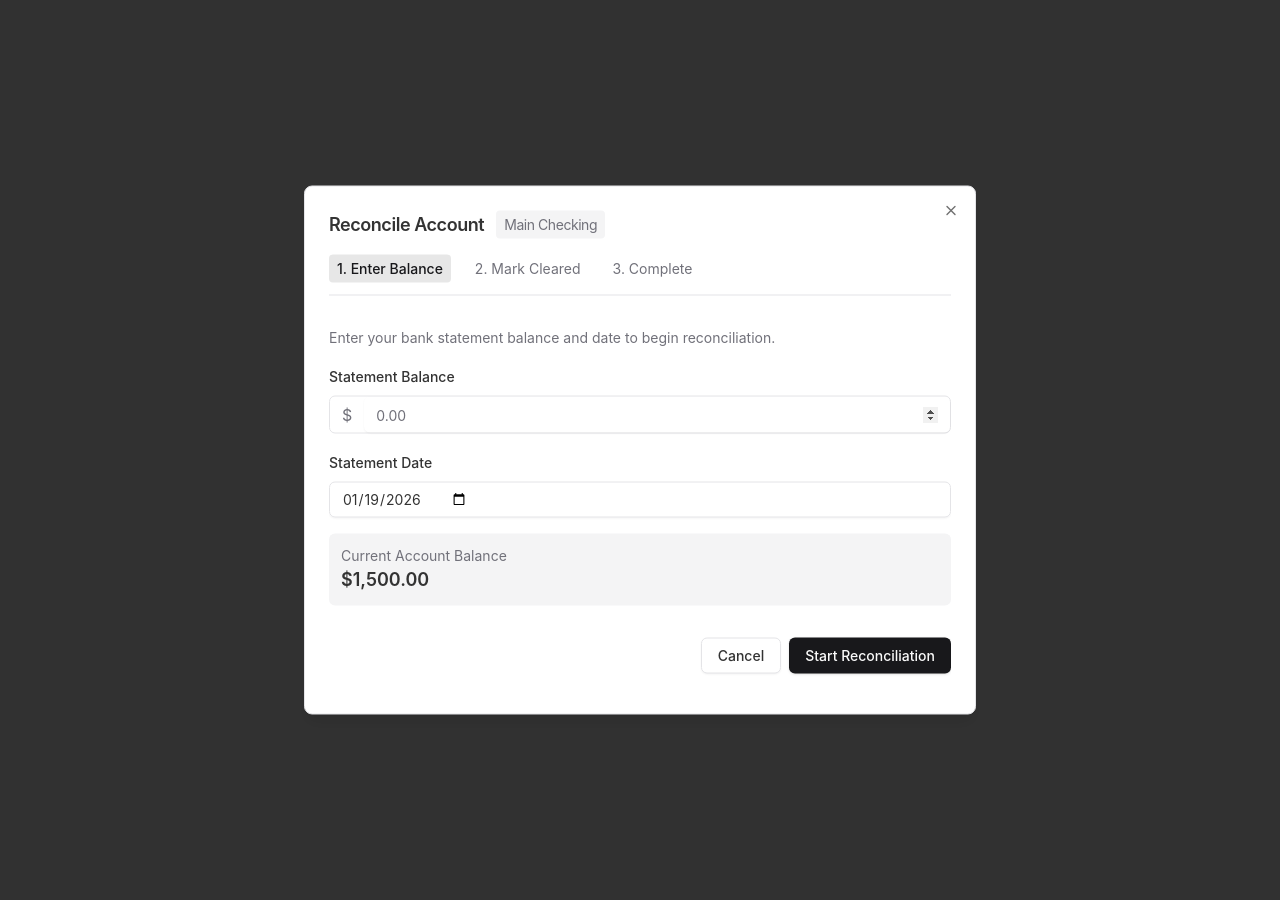
it: ReconcileModal › Step 2 - Mark Transactions › should proceed to step 3 when continue button is clicked
This screenshot has width=1280, height=900.
Type "1500.00" into the number field labelled "Statement Balance".
click(657, 414); type("1500.00")  # box [364,396,950,432]
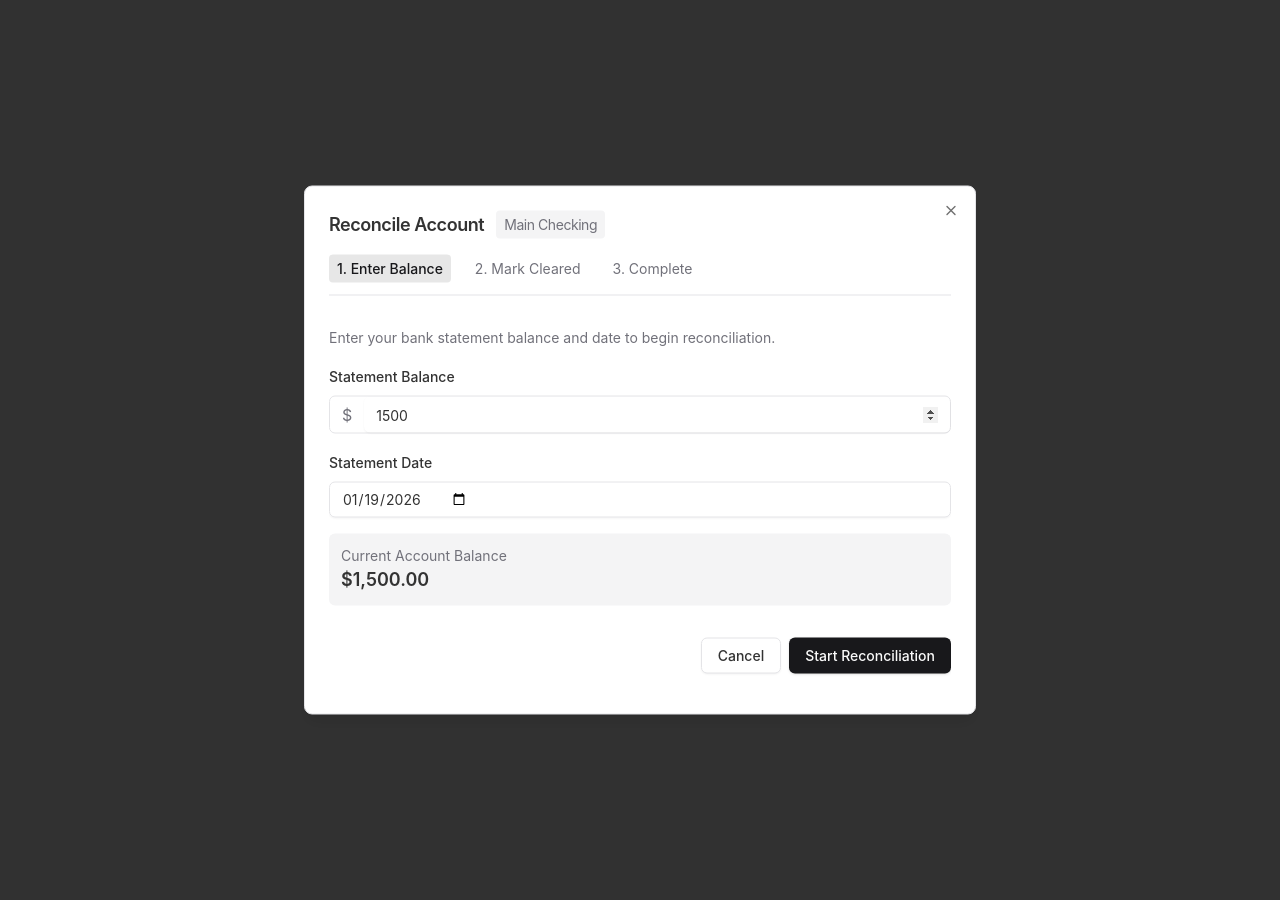
Click the button "Start Reconciliation".
click(870, 656)  # box [789,638,951,674]
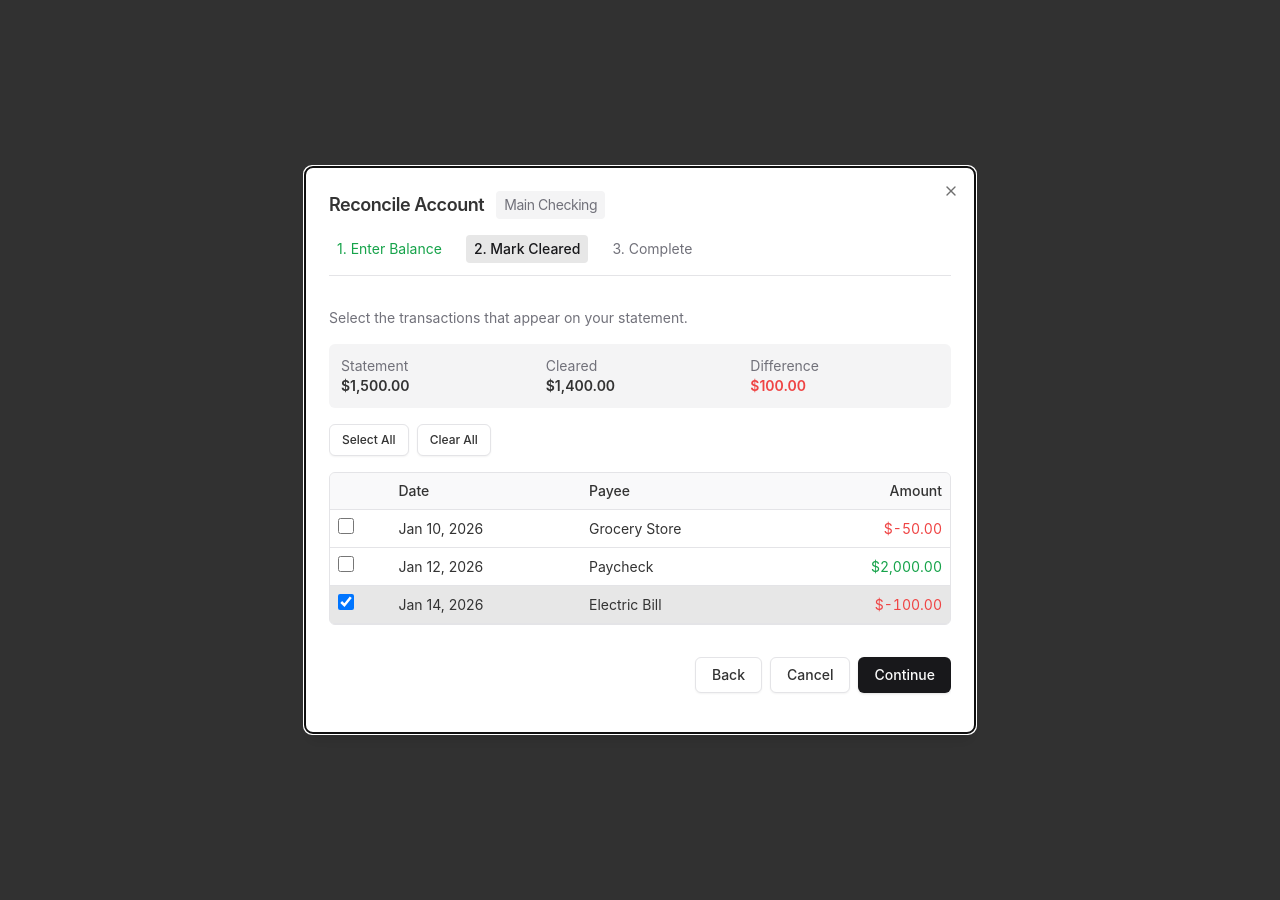
expect the text "Grocery Store" is shown: met, box [581,510,786,548]
Click the button "Continue".
click(905, 675)  # box [858,657,951,693]
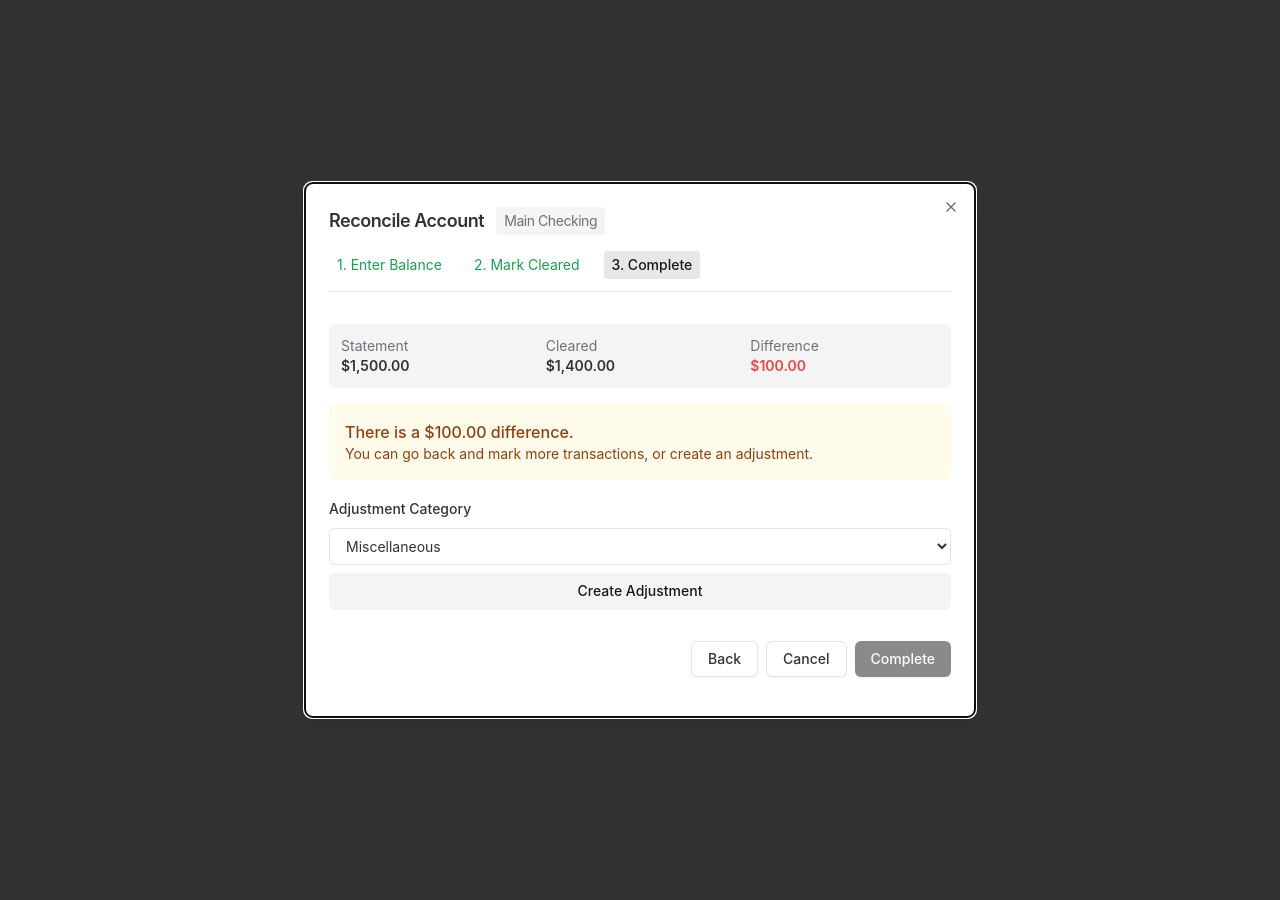
expect the button "Complete" is shown: met, box [855,641,951,677]
